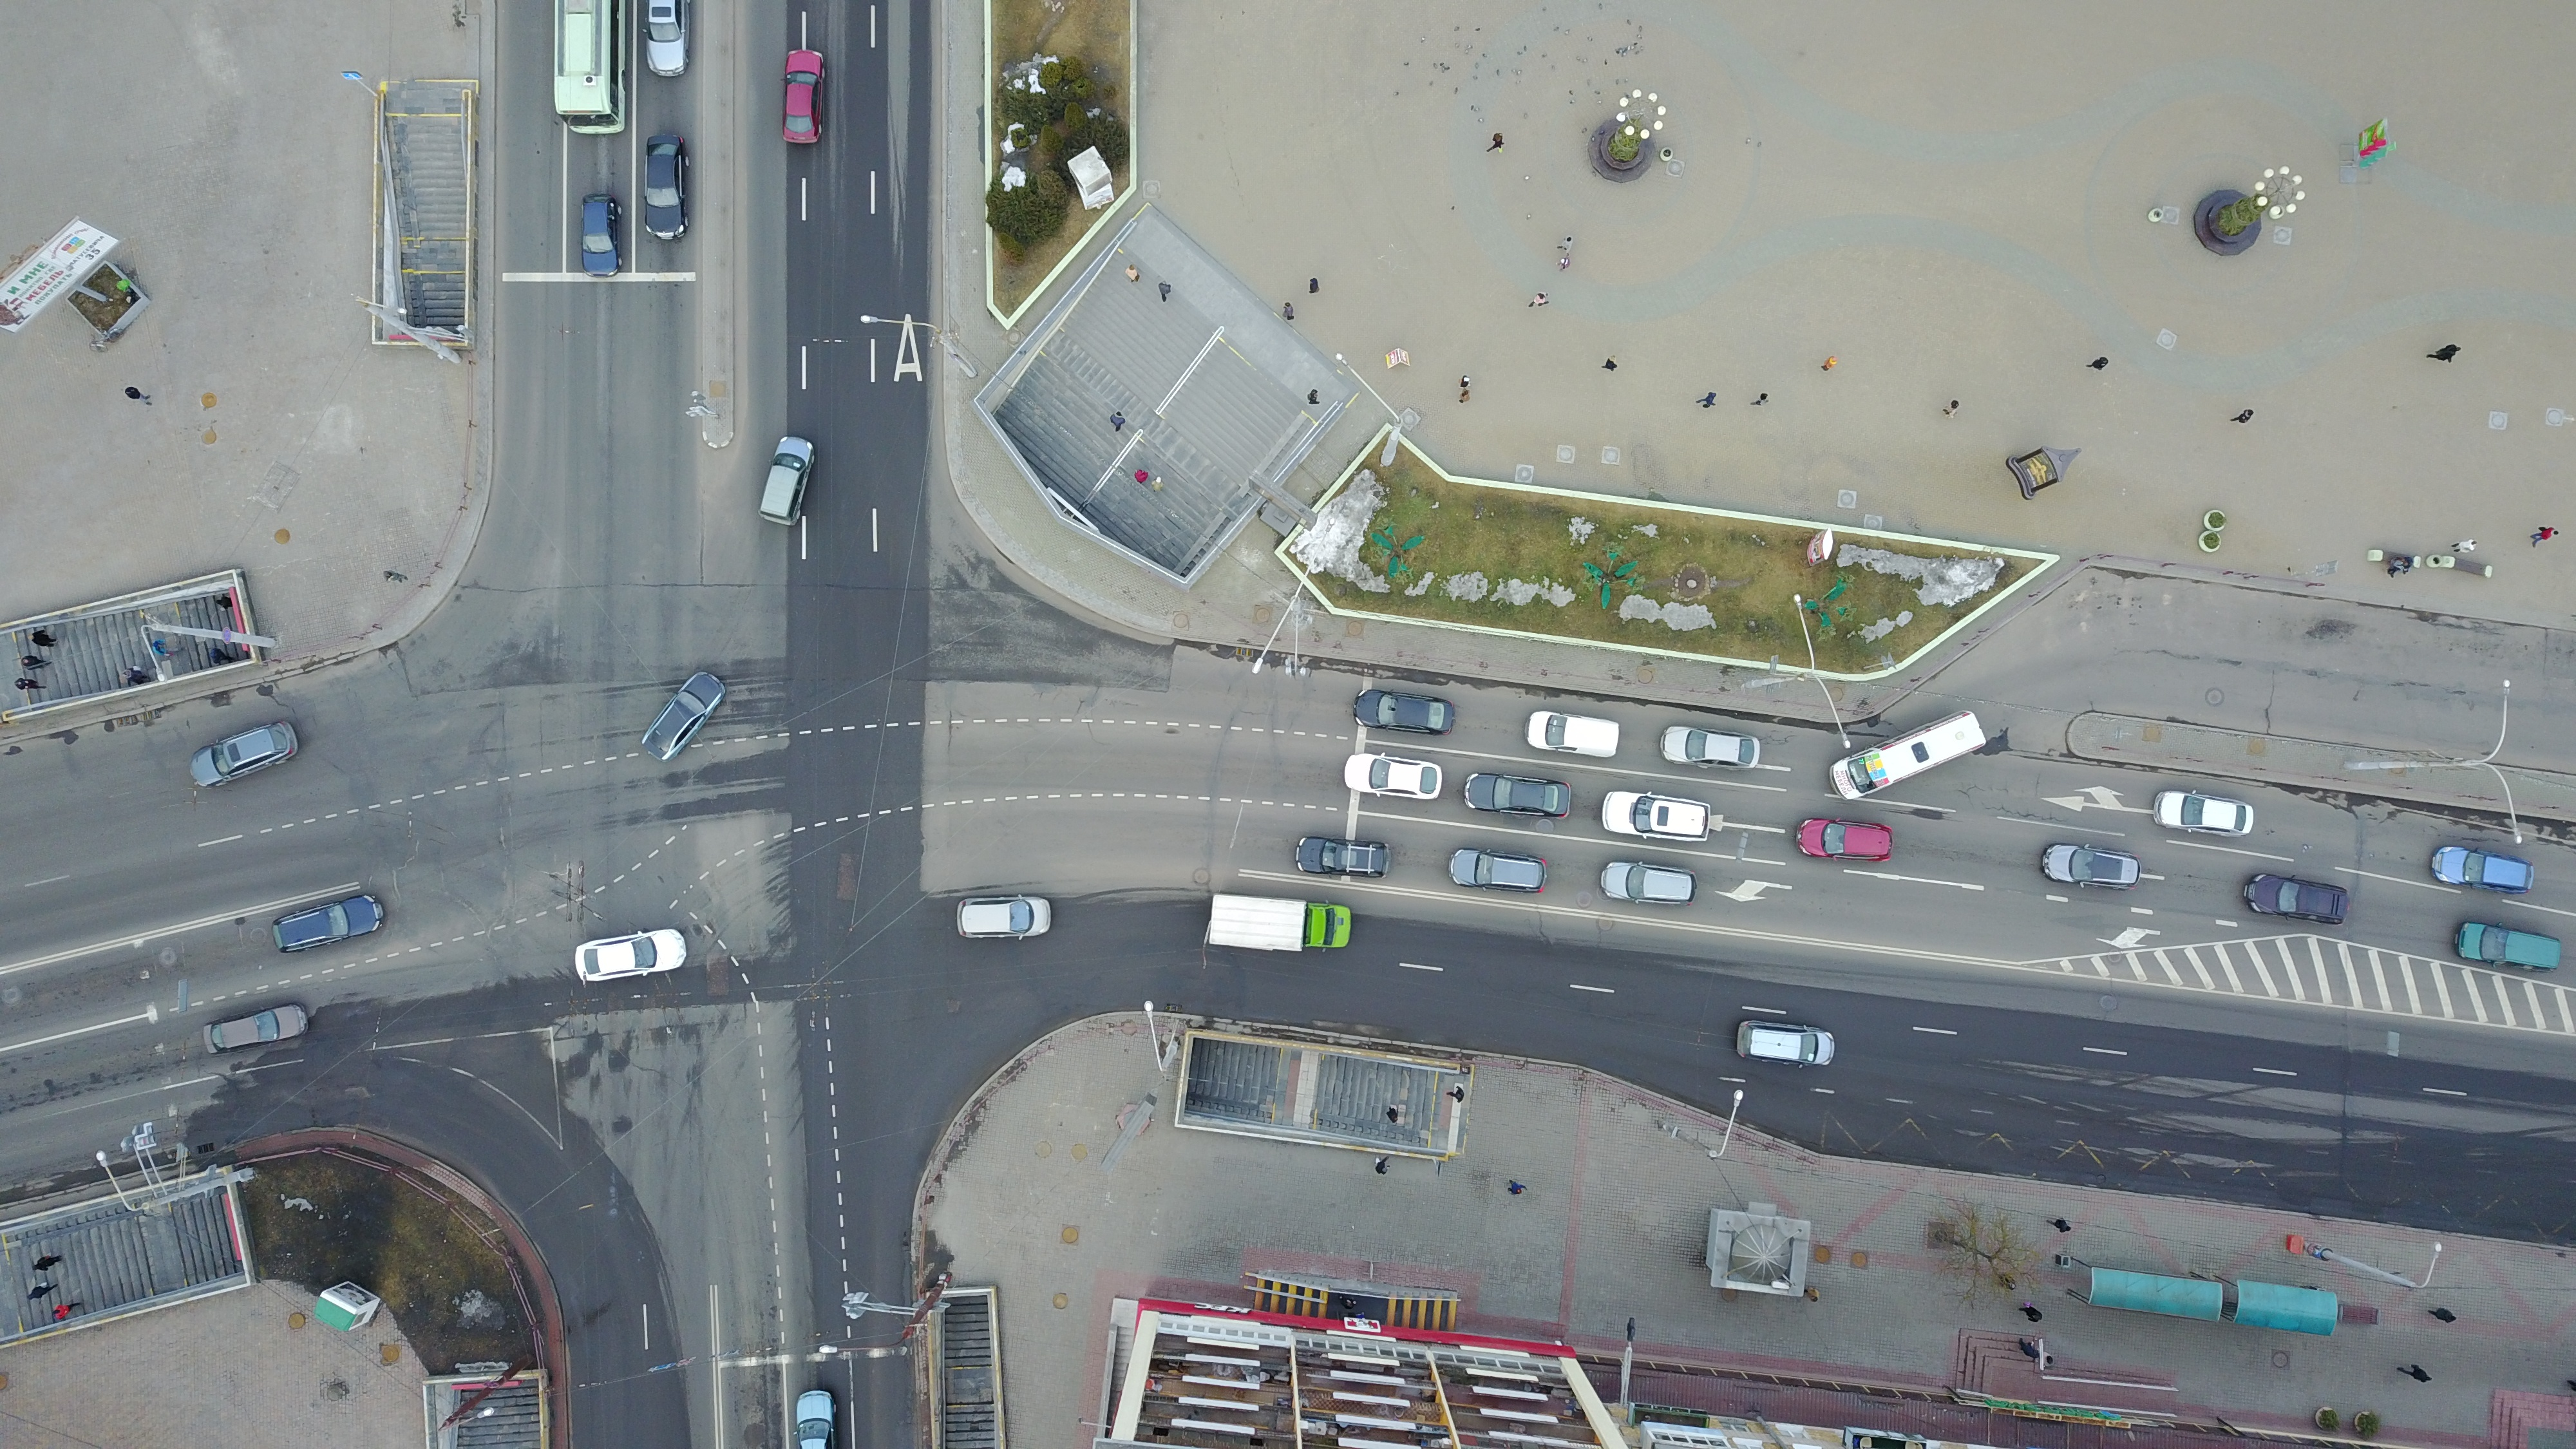car: (639, 667, 731, 764), (265, 886, 386, 959), (189, 717, 301, 793), (2429, 839, 2546, 902), (571, 925, 686, 987), (2450, 915, 2562, 977), (2240, 867, 2353, 927), (200, 1000, 311, 1060), (1460, 768, 1575, 823), (775, 44, 832, 149), (1734, 1016, 1840, 1070), (1660, 722, 1766, 777), (1601, 789, 1711, 842), (1449, 842, 1552, 899), (2148, 787, 2256, 840), (757, 435, 819, 527), (1525, 706, 1624, 763), (1596, 856, 1697, 911), (2038, 839, 2141, 892), (642, 131, 692, 241), (1796, 812, 1895, 867), (1352, 685, 1456, 736), (1343, 748, 1442, 801), (954, 892, 1054, 939), (1297, 833, 1392, 883), (580, 191, 626, 280), (640, 0, 692, 74)
